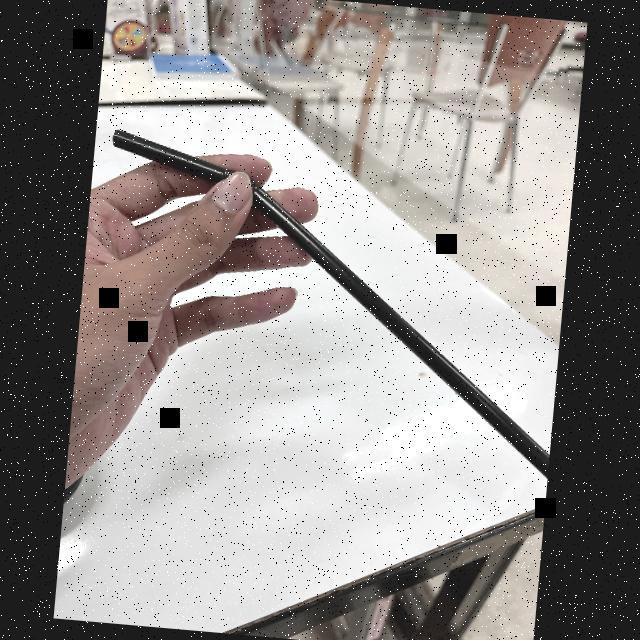straw: (80, 129, 574, 484)
